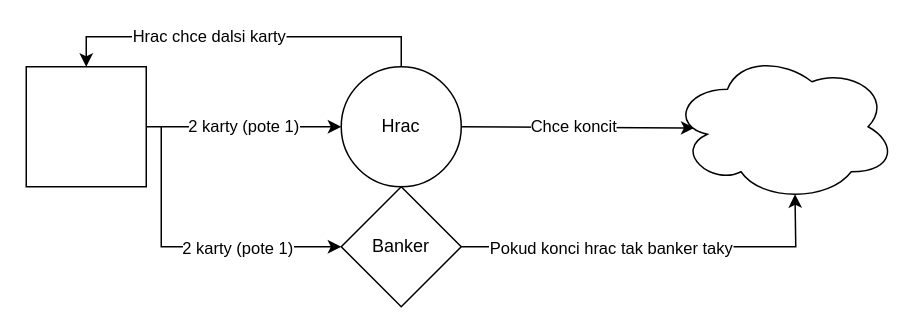
Some shapes in this 923 by 333 pixel diagram are drawn without their labels. Here are the shapes that lost their labels. From the top down, the centre of each, then its label:
At (x=85, y=126): "Karta".
At (x=783, y=126): "Pocitam kdo ma vetsi hodnotu karet".
